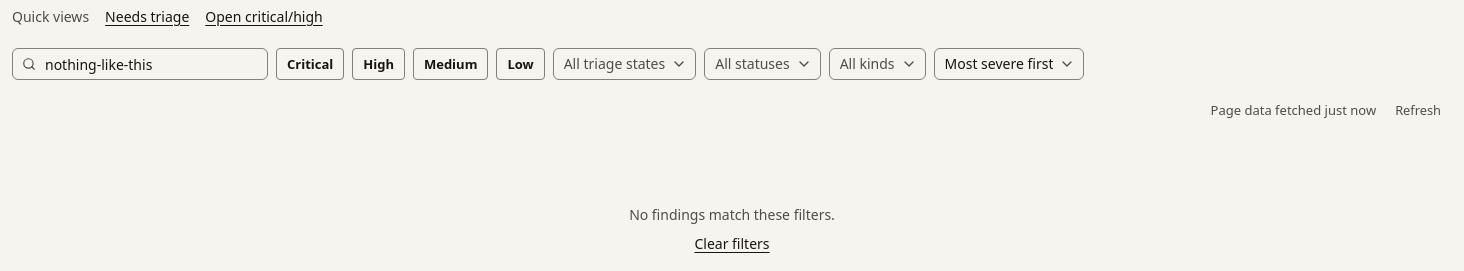
it: FindingsDashboard › restores the search from the URL and clears it with the filters
Check: the search field named "Search findings" holds "nothing-like-this", box [12,48,268,80]
Check: the text "No findings match these filters." is shown, box [629,204,835,225]
Click the button "Clear filters".
click(732, 244)  # box [694,233,770,254]
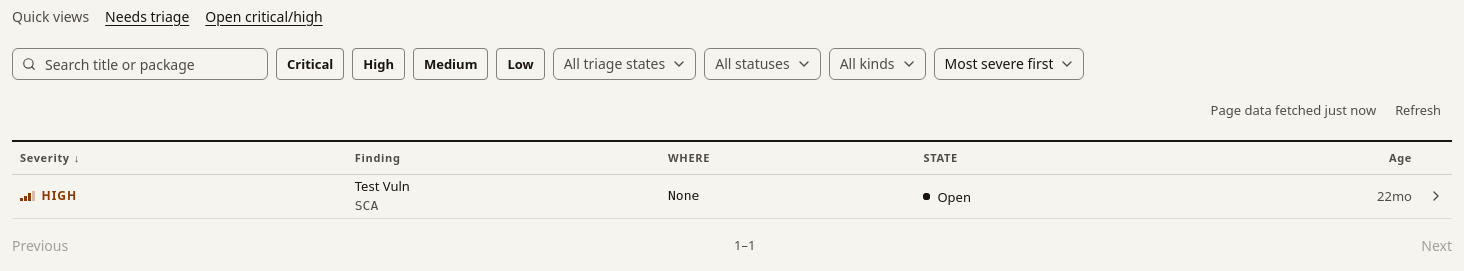
Check: the link "Test Vuln" is shown, box [355,177,410,195]
Check: the search field named "Search findings" is empty, box [12,48,268,80]
